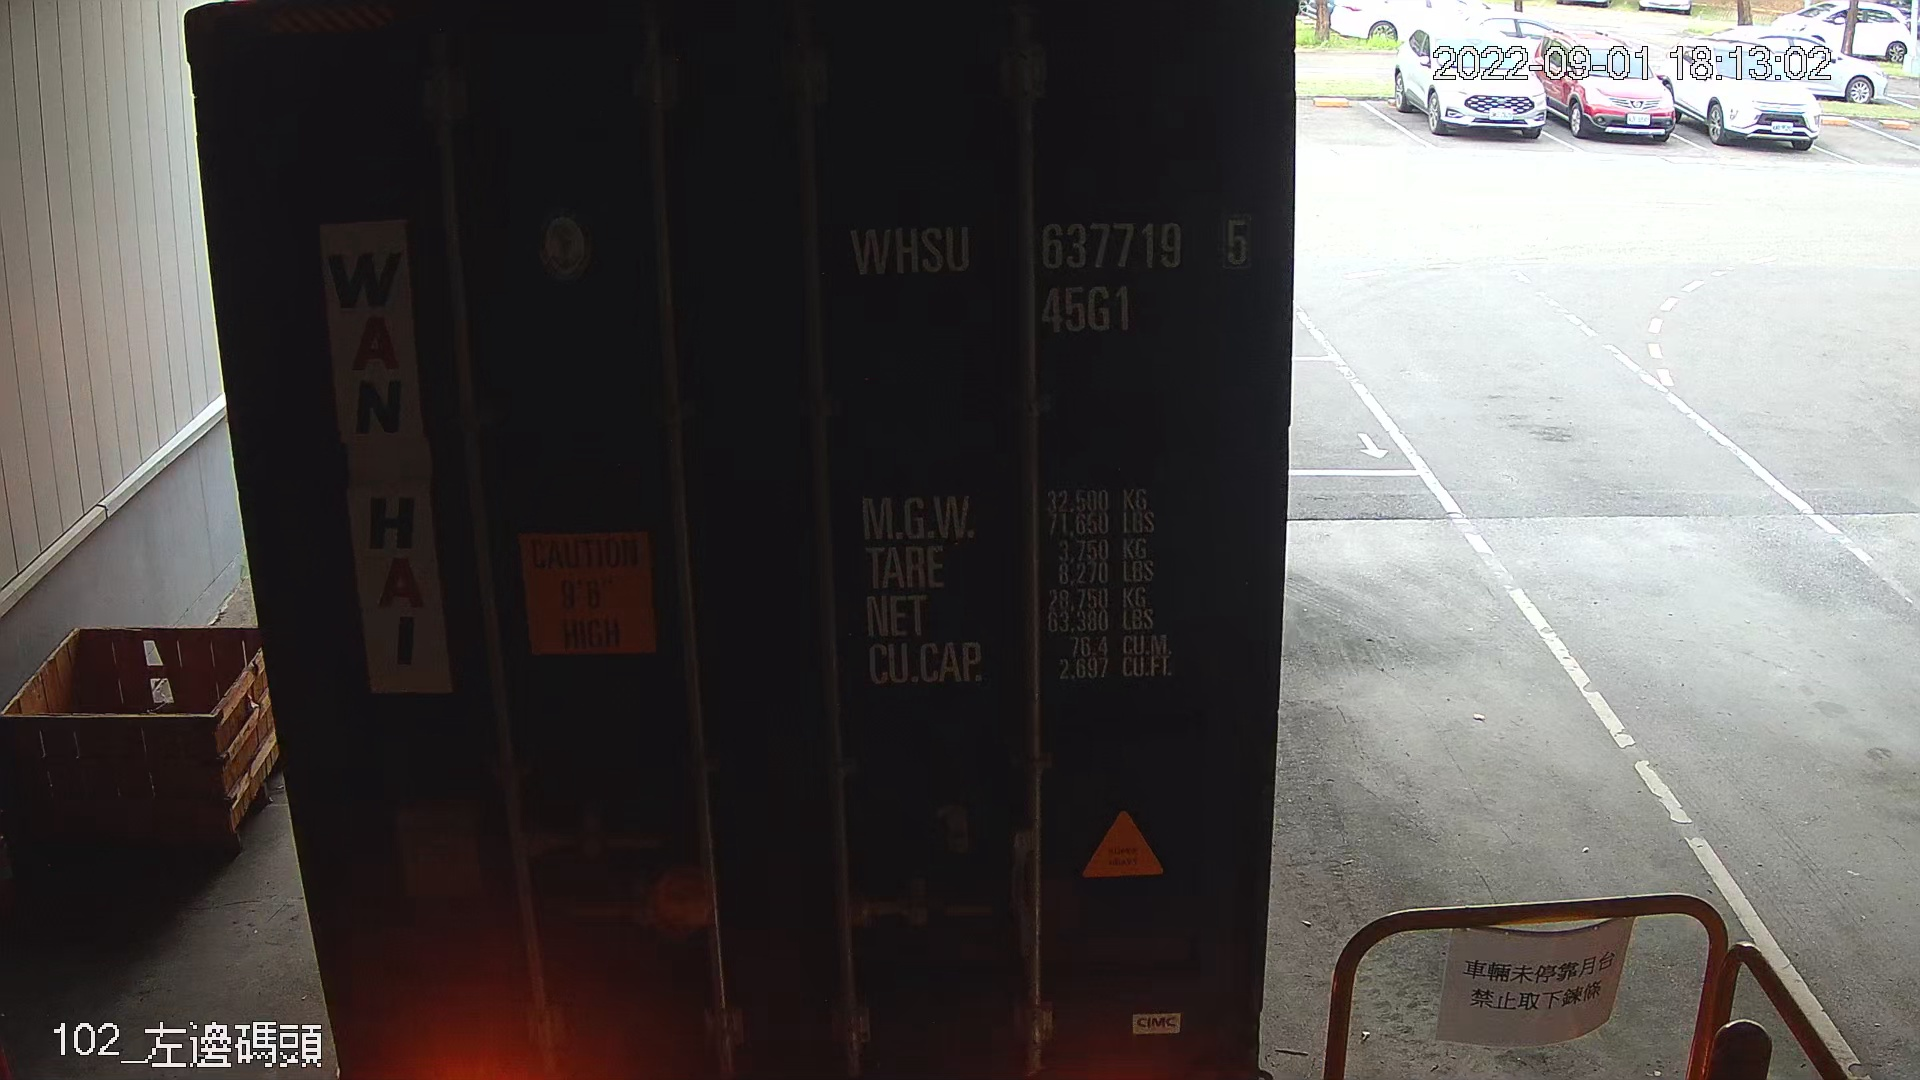container: (833, 200, 1270, 342)
